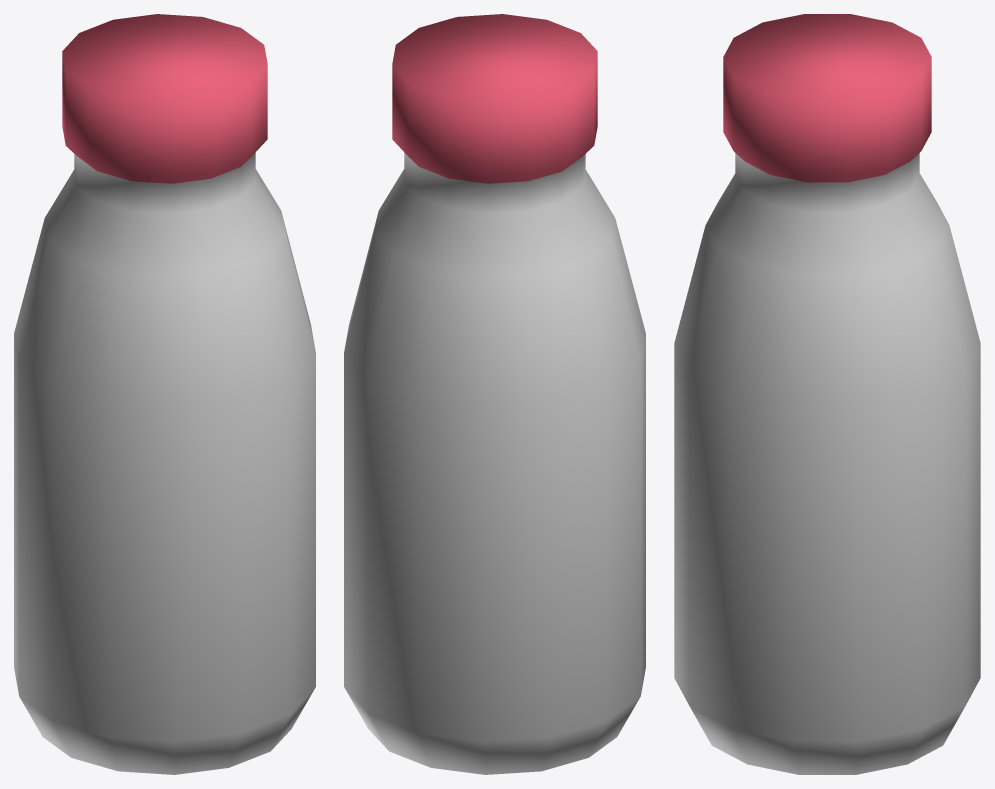
Rendered from latte_bottiglia_ps_mini.fbx.
3 views of the same model, side by side, from view 1: azimuth 30°, elevation 25°; view 2: azimuth 150°, elevation 25°; view 3: azimuth 270°, elevation 25° (orthographic).
Visible parts, largest first — view 1: latte_ps_mini; view 2: latte_ps_mini; view 3: latte_ps_mini.
Part boxes in pixels (<box>): latte_ps_mini: <box>14,14,315,774</box>; latte_ps_mini: <box>344,14,645,774</box>; latte_ps_mini: <box>674,14,980,774</box>.
Size of the model in its own units: 130 by 319 by 133.
